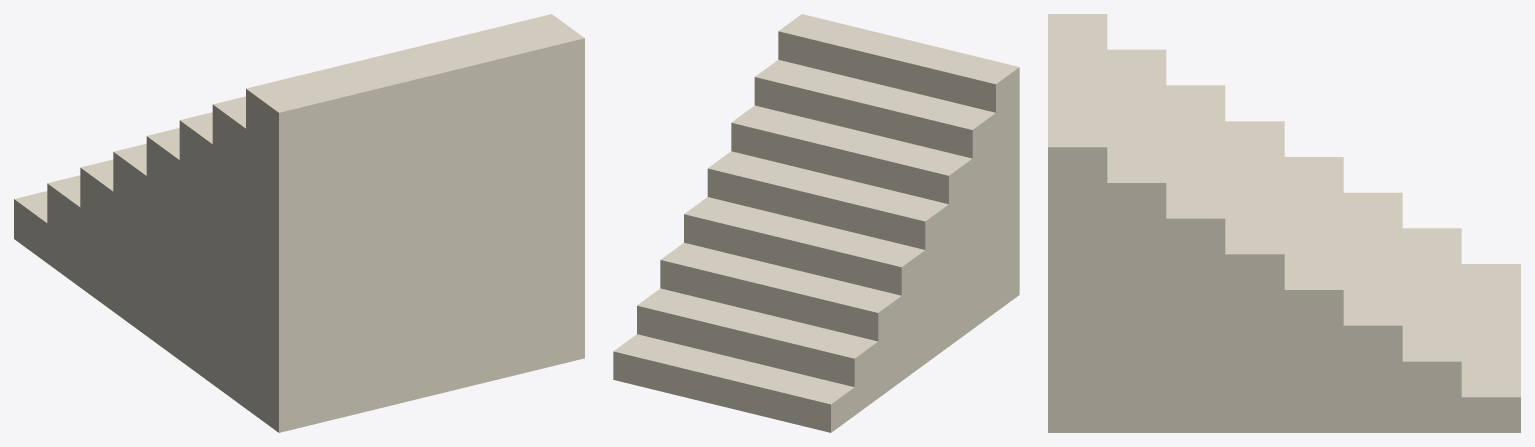
Rendered from stairs-straight-2m.glb.
3 renders of one model, left to right at view 1: azimuth 30°, elevation 25°; view 2: azimuth 150°, elevation 25°; view 3: azimuth 270°, elevation 25°, orthographic. The views are drawn at different scales.
Visible parts, largest first — view 1: stairs-straight-2m; view 2: stairs-straight-2m; view 3: stairs-straight-2m.
Part boxes in pixels (x1,y1,x2,y2): stairs-straight-2m: (14, 14, 584, 432); stairs-straight-2m: (613, 14, 1019, 432); stairs-straight-2m: (1048, 14, 1520, 432).
Bounding box in the file's own units: 2 × 2 × 3.
